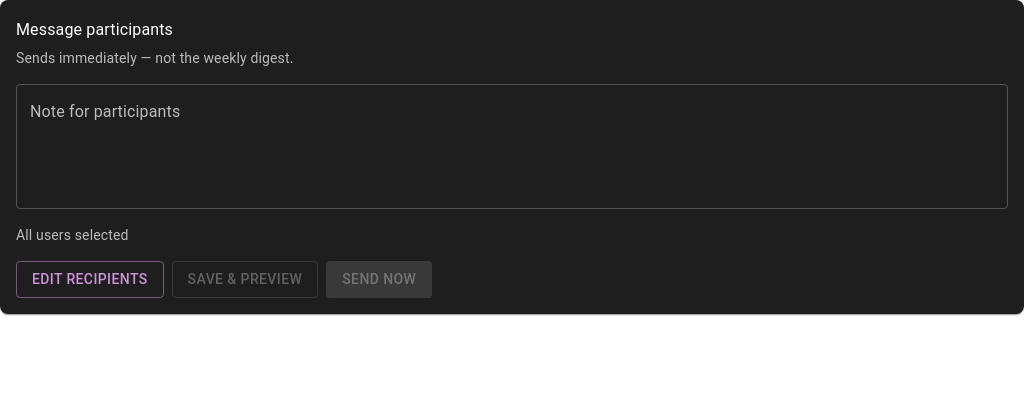
AdminOnDemandEmailCard › shows the rehearsal suppress copy
The image size is (1024, 397).
Type "Practice note" into the text box labelled "Note for participants" at x=512, y=146, box [30,100,994,192]
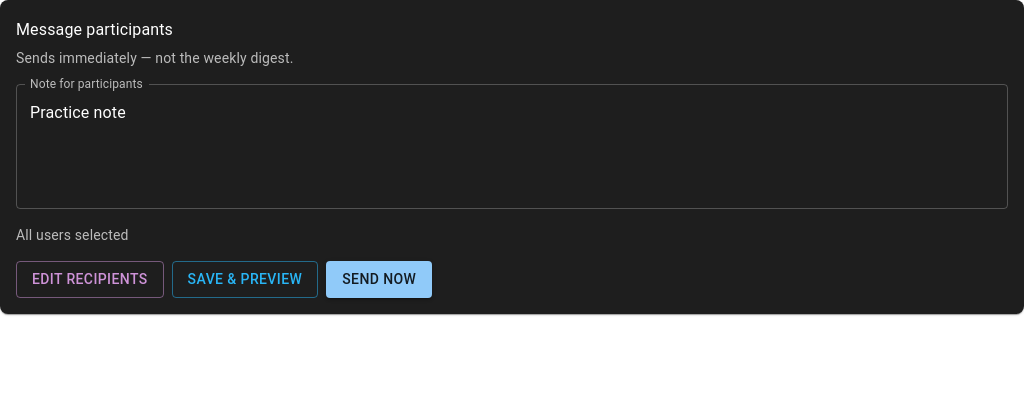
Click the button "Send Now" at x=379, y=279, box [326,261,432,298]
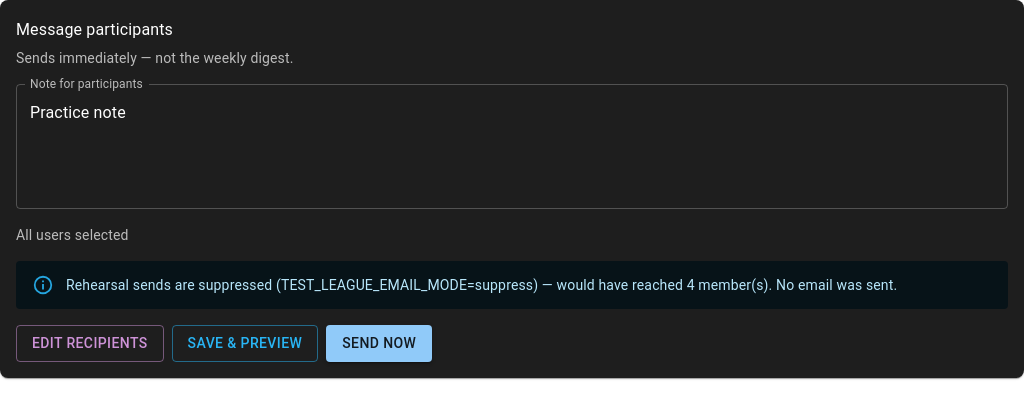
Check: the text "would have reached 4 member(s). No email was sent" is shown, box [66,277,897,293]
